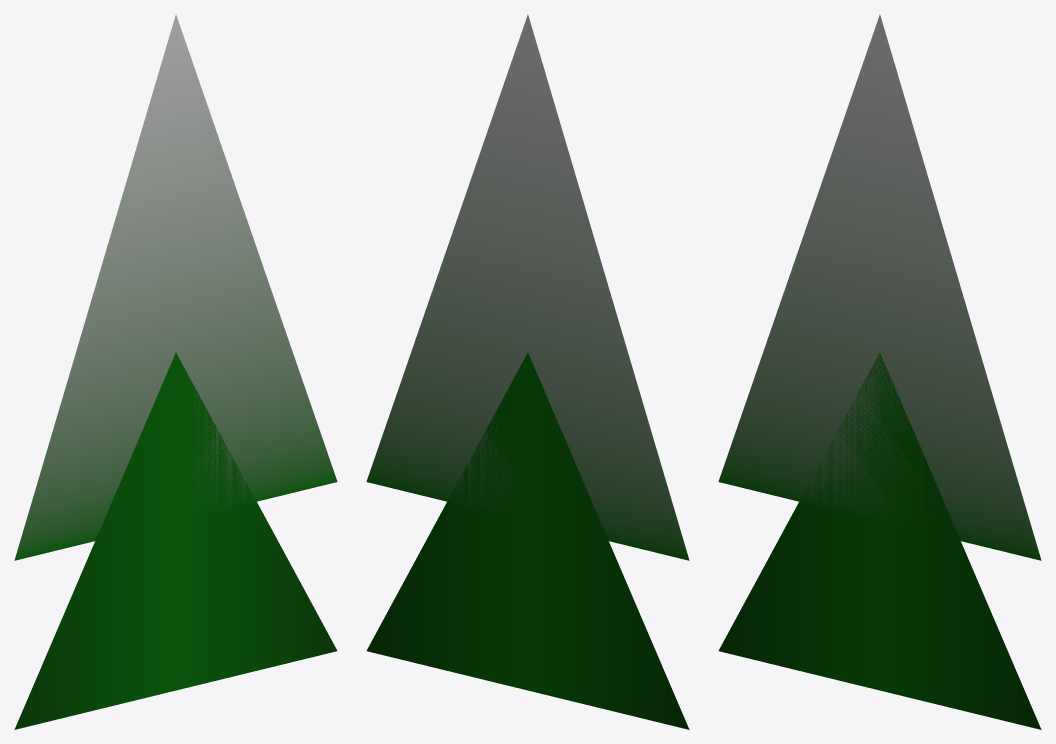
File: Tree.fbx
3 views of the same model, side by side, from view 1: azimuth 30°, elevation 25°; view 2: azimuth 150°, elevation 25°; view 3: azimuth 330°, elevation 25° (orthographic).
Parts seen in each view (by area): view 1: Tree, Tree_Trunk; view 2: Tree, Tree_Trunk; view 3: Tree, Tree_Trunk.
Boxes of the visible parts, x1=… form: Tree: x1=14, y1=14, x2=337, y2=560; Tree_Trunk: x1=14, y1=353, x2=337, y2=729; Tree: x1=366, y1=14, x2=689, y2=560; Tree_Trunk: x1=366, y1=353, x2=689, y2=729; Tree: x1=718, y1=14, x2=1041, y2=560; Tree_Trunk: x1=718, y1=353, x2=1041, y2=729.
Bounding box in the file's own units: 232 × 465 × 2.03e-05.
